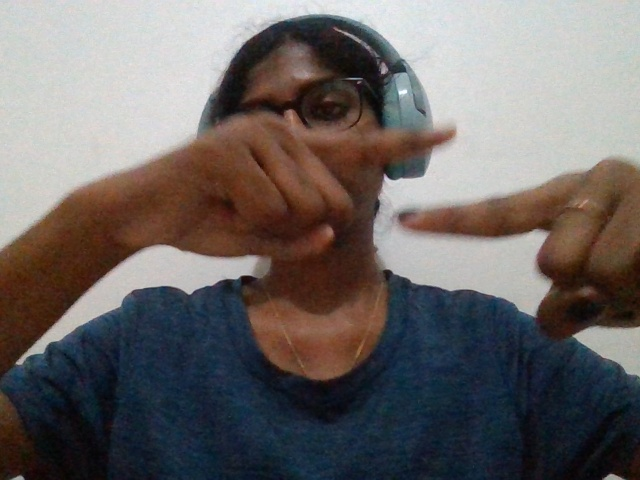Sign: (46, 80, 639, 356)
